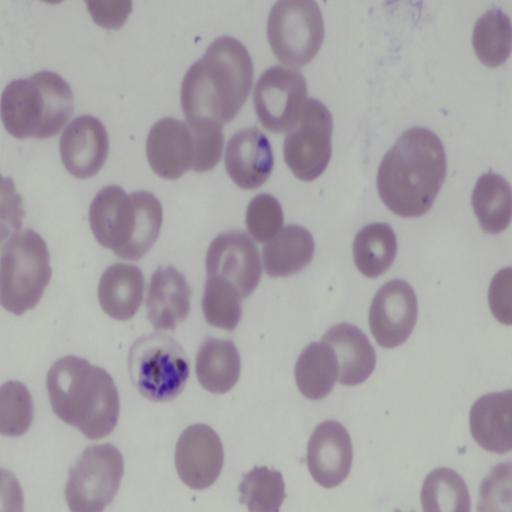Infected: (129, 332, 191, 401), (224, 128, 273, 187)
Uninfected: (180, 37, 254, 125), (376, 127, 447, 215), (46, 357, 119, 438), (2, 71, 72, 139), (1, 232, 52, 313), (65, 445, 123, 512), (266, 1, 324, 65), (284, 105, 333, 179), (303, 419, 353, 491), (207, 233, 262, 295), (319, 325, 373, 388), (254, 68, 307, 131), (368, 281, 418, 346), (176, 423, 225, 489), (88, 187, 135, 251), (60, 116, 109, 176), (146, 118, 195, 178), (145, 266, 190, 330), (469, 388, 511, 453), (293, 342, 339, 400), (97, 266, 144, 320), (195, 339, 241, 394), (471, 172, 512, 232), (263, 227, 314, 275), (352, 223, 398, 276), (201, 276, 245, 331), (124, 194, 163, 255), (473, 8, 512, 66), (185, 117, 223, 172), (238, 467, 284, 512), (421, 468, 469, 511), (245, 193, 285, 241), (0, 380, 34, 436), (478, 463, 510, 511), (86, 1, 133, 29)
